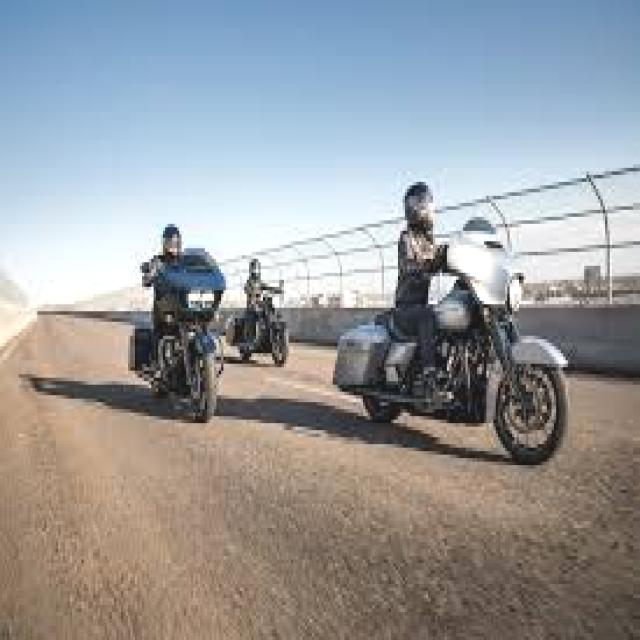MOTORCYCLE: (332, 240, 563, 468), (130, 257, 224, 421), (230, 293, 287, 364)
